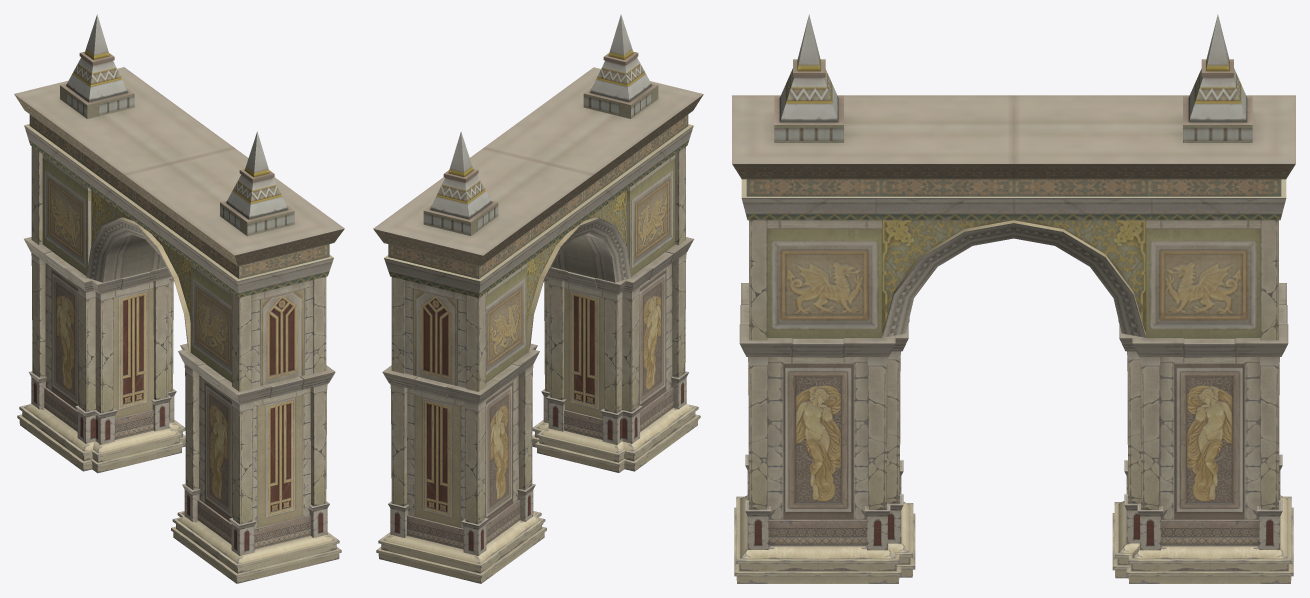
The model's file is Door01_Build_LostTemple_002.FBX.
3 renders of one model, left to right at view 1: azimuth 30°, elevation 25°; view 2: azimuth 150°, elevation 25°; view 3: azimuth 270°, elevation 25°, orthographic. The views are drawn at different scales.
Parts seen in each view (by area): view 1: Door01_Build_LostTemple_002; view 2: Door01_Build_LostTemple_002; view 3: Door01_Build_LostTemple_002.
Part boxes in pixels (x1,y1,x2,y2): Door01_Build_LostTemple_002: [14, 14, 344, 583]; Door01_Build_LostTemple_002: [373, 14, 703, 583]; Door01_Build_LostTemple_002: [732, 14, 1295, 583].
Size of the model in its own units: 362 by 1319 by 1256.
Materials: 1 (1 with a texture image).
